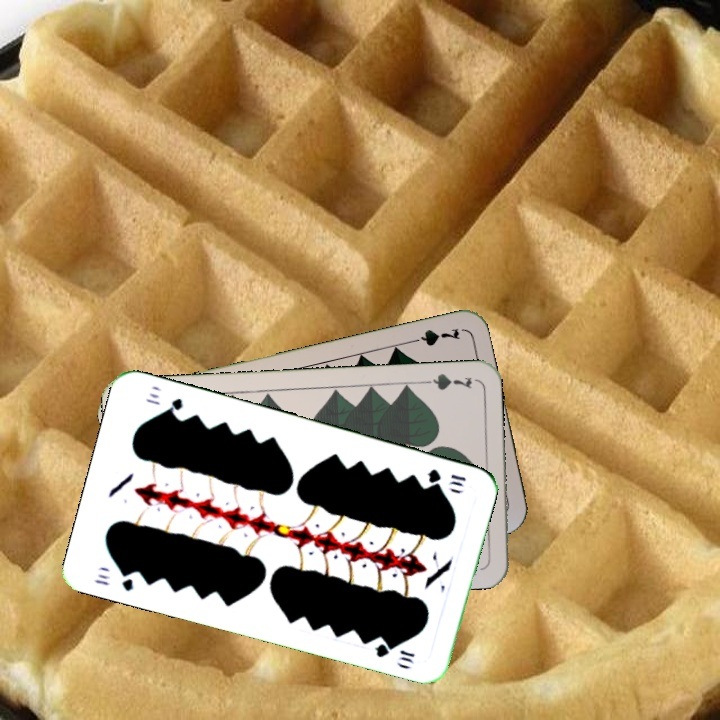G10: (90, 566, 136, 594), (424, 465, 469, 489)
G7: (403, 324, 462, 349), (416, 370, 474, 393)
